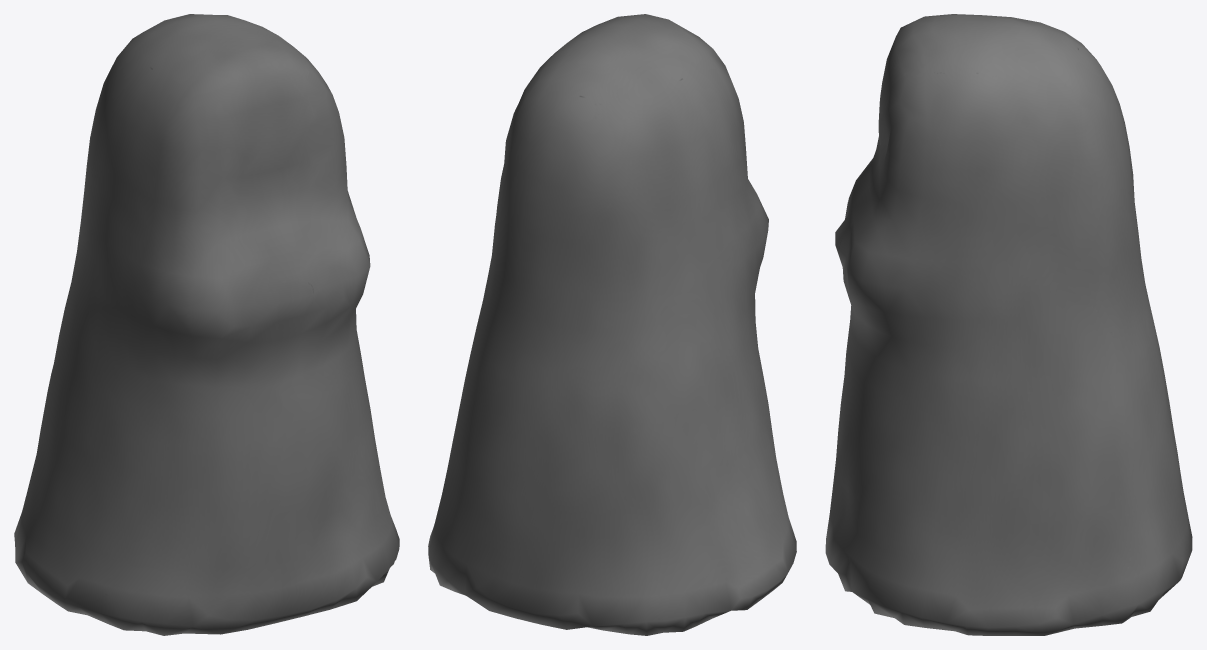
File: Shrine.fbx
The picture shows the model from 3 angles, left to right: view 1: azimuth 30°, elevation 25°; view 2: azimuth 150°, elevation 25°; view 3: azimuth 270°, elevation 25°; orthographic projection. The views are drawn at different scales.
Visible parts, largest first — view 1: Statue.001; view 2: Statue.001; view 3: Statue.001.
Boxes of the visible parts, box(x1,y1,x2,y2) form: Statue.001: box(14, 14, 399, 635); Statue.001: box(428, 14, 796, 635); Statue.001: box(825, 14, 1192, 635).
Size of the model in its own units: 121 by 188 by 116.
